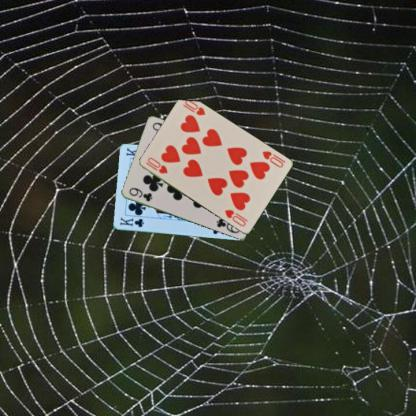10h: (260, 148, 284, 170), (142, 155, 168, 175)
9c: (126, 185, 153, 203)
Kc: (117, 215, 145, 229)
